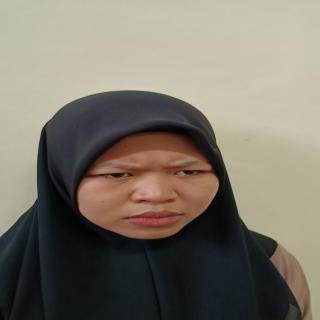Marah: (70, 128, 227, 246)
